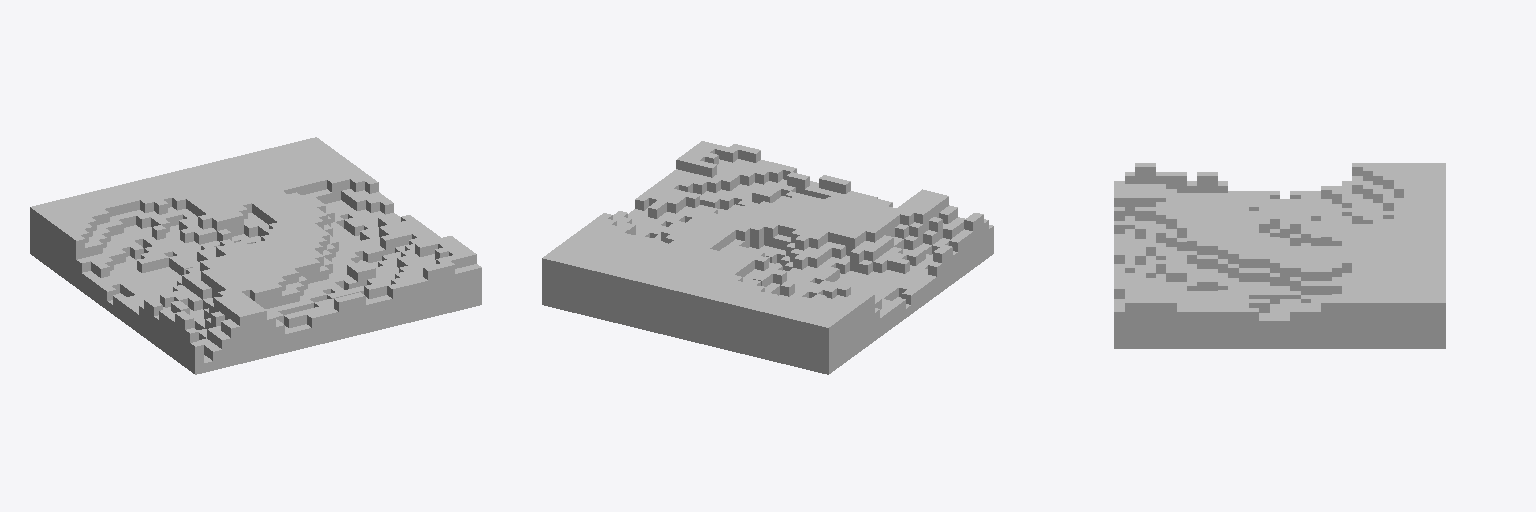
The model's file is Destert Map-7.obj.
3 renders of one model, left to right at view 1: azimuth 30°, elevation 25°; view 2: azimuth 150°, elevation 25°; view 3: azimuth 270°, elevation 25°, orthographic.
Visible parts, largest first — view 1: object 1; view 2: object 1; view 3: object 1.
Part boxes in pixels (bbox=[...]): object 1: bbox=[30, 137, 481, 374]; object 1: bbox=[542, 141, 993, 374]; object 1: bbox=[1114, 163, 1445, 348].
Bounding box in the file's own units: 3.2 × 0.5 × 3.2.